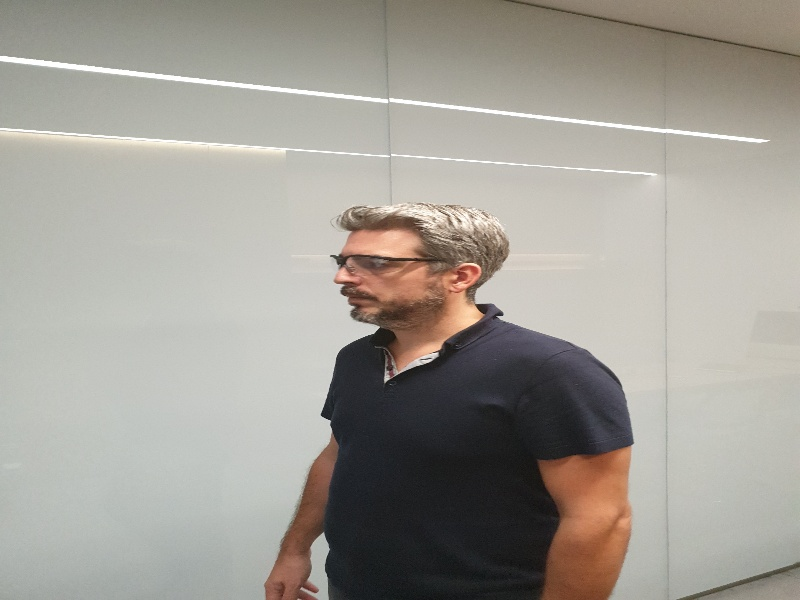Gozluk: (329, 252, 442, 271)
